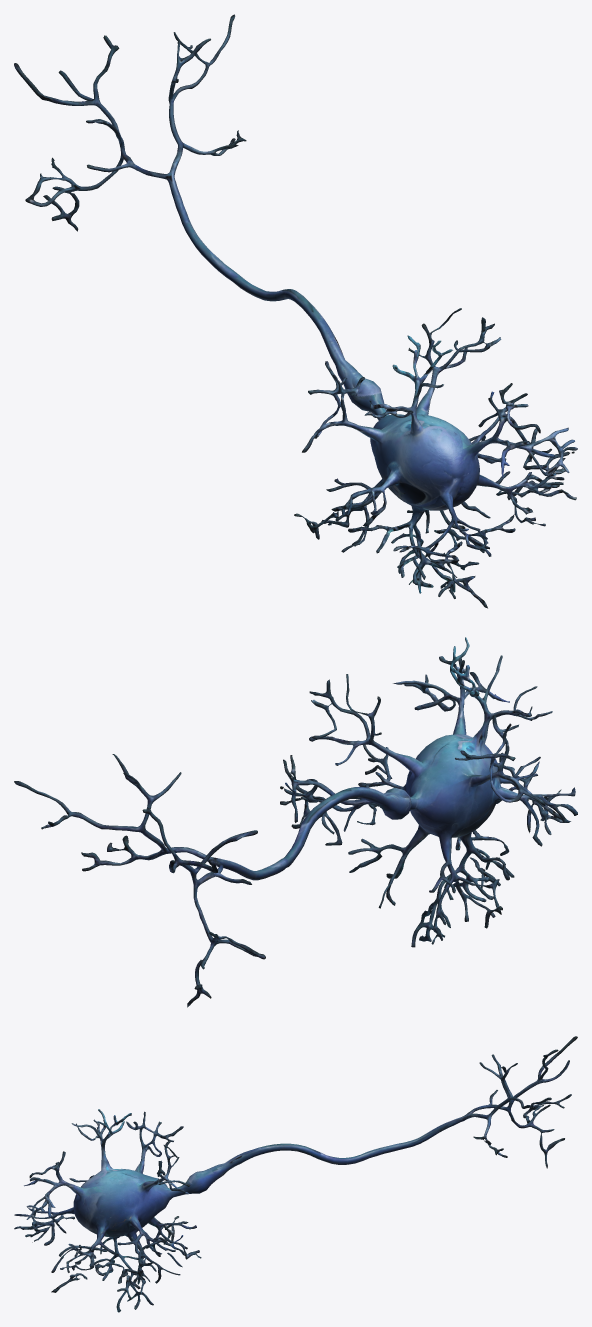
File: neuron_model.glb
3 views of the same model, one above another, from view 1: azimuth 30°, elevation 25°; view 2: azimuth 150°, elevation 25°; view 3: azimuth 270°, elevation 25° (orthographic). The views are drawn at different scales.
Size of the model in its own units: 0.7835 by 0.9913 by 1.99.
Materials: 1 (1 with a texture image).
